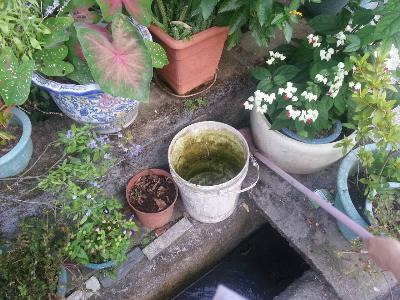bucket: (168, 120, 251, 224)
